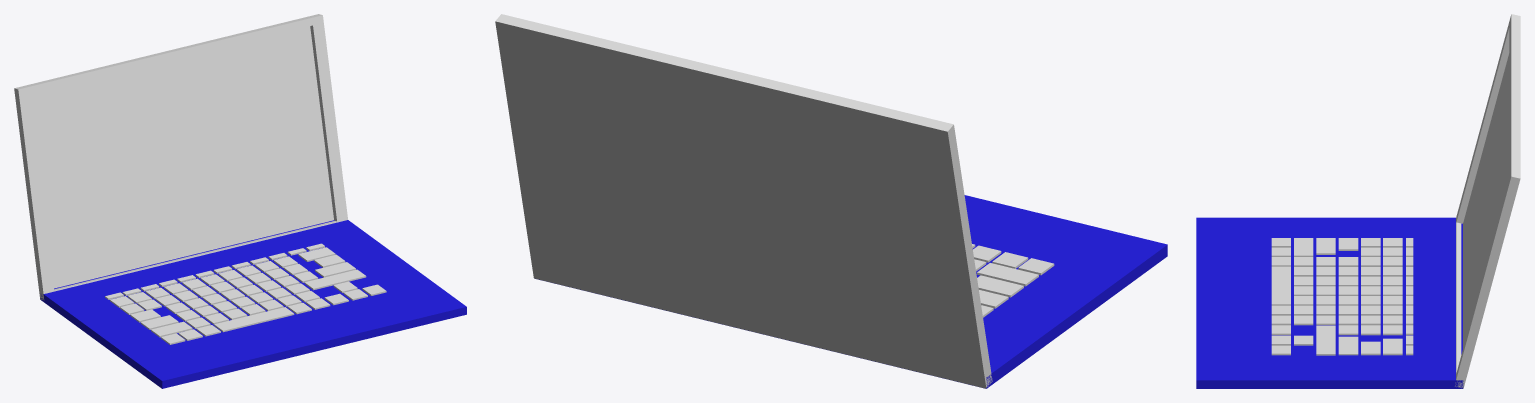
The picture shows the model from 3 angles, left to right: view 1: azimuth 30°, elevation 25°; view 2: azimuth 150°, elevation 25°; view 3: azimuth 270°, elevation 25°; orthographic projection. The views are drawn at different scales.
Visible parts, largest first — view 1: Cube.005, Cube; view 2: Cube.005, Cube; view 3: Cube, Cube.005.
Part boxes in pixels (<box>): Cube.005: <box>14,14,386,344</box>; Cube: <box>40,220,466,388</box>; Cube.005: <box>495,14,1054,388</box>; Cube: <box>535,195,1167,388</box>; Cube: <box>1196,217,1463,388</box>; Cube.005: <box>1271,14,1520,388</box>.
Bounding box in the file's own units: 839 × 511 × 707.
